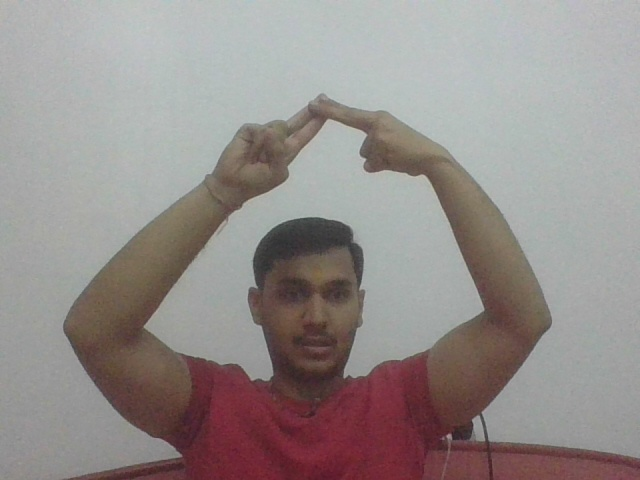F: (217, 95, 437, 190)
